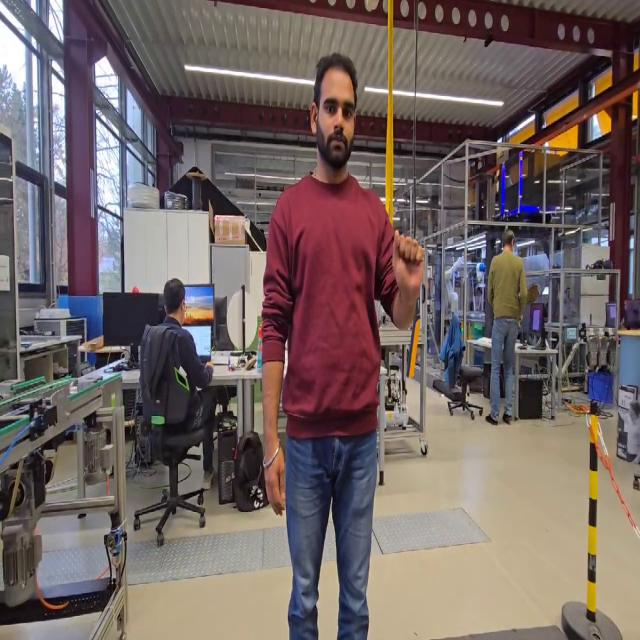closed_fist: (389, 222, 429, 307)
